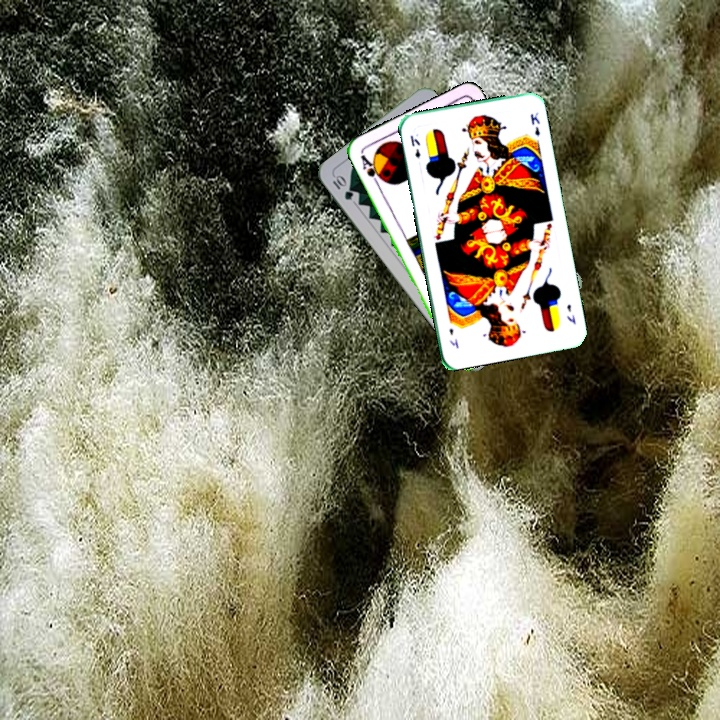EK: (406, 132, 423, 161), (563, 300, 578, 327)
G10: (328, 171, 356, 203)
SA: (356, 150, 386, 188)
